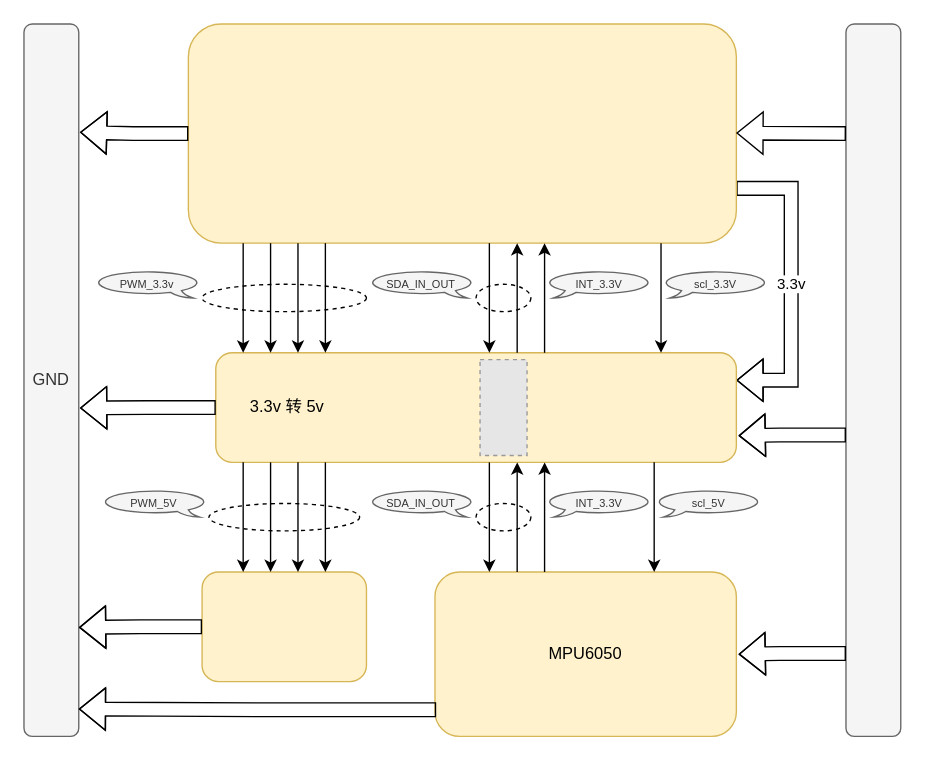
This 925x760 diagram has some shape labels left out. Grey dashed boxes stand in for pictures. Here are the shapes that lost their labels. From the top down, the centre of each, then its label:
At pixel 461 133: "fpga".
At pixel 873 379: "5V".
At pixel 283 626: "电调*4".
